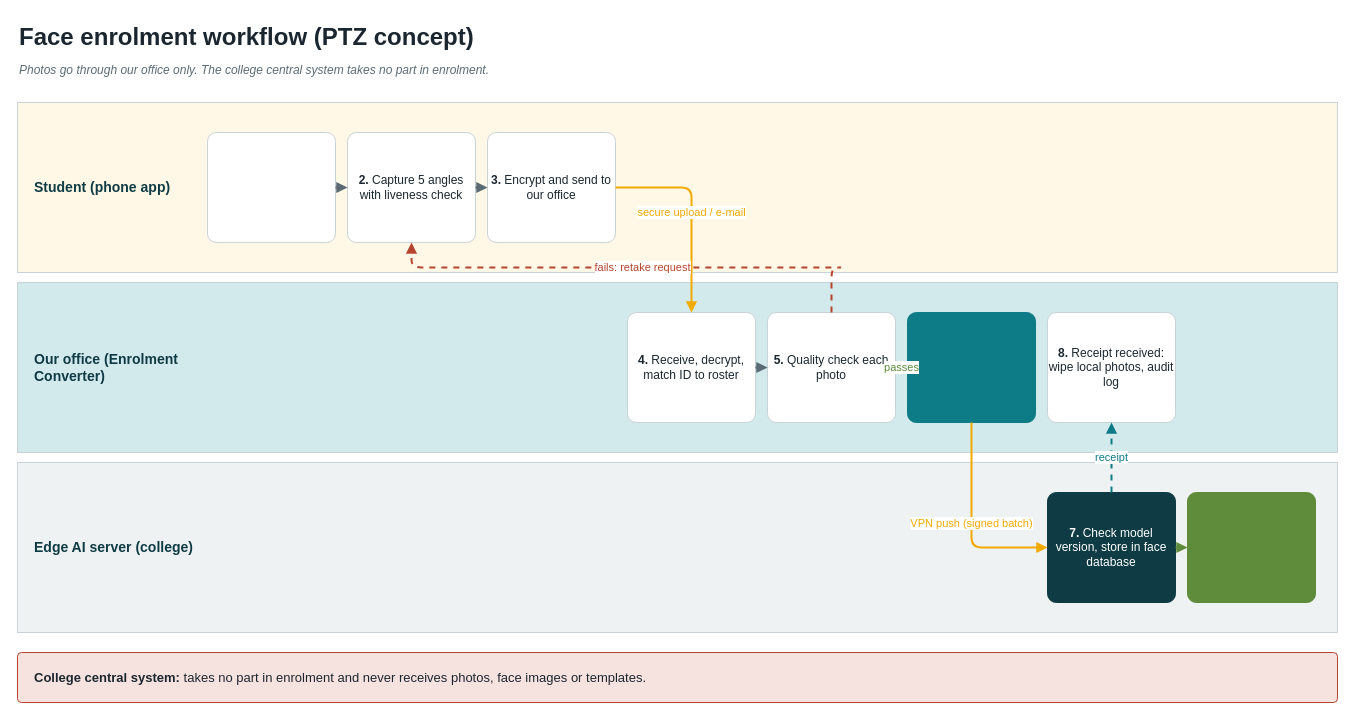
Image size: 1355x720. Some labels were removed from this diagram. Each missing label, with the centre of its shape:
"1. Log in with OTP and give consent" belongs at [271,187].
"6. Convert: align, crop, build face templates" belongs at [971,367].
"9. Student enrolled and ready to scan" belongs at [1251,547].
